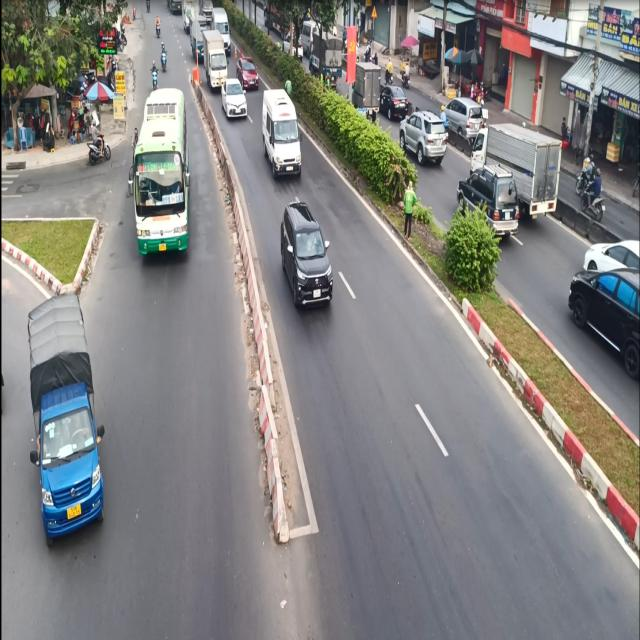bus: (131, 84, 195, 275)
car: (275, 191, 335, 307), (260, 86, 304, 192), (222, 74, 247, 128), (234, 51, 259, 88)
truck: (22, 292, 104, 544)
